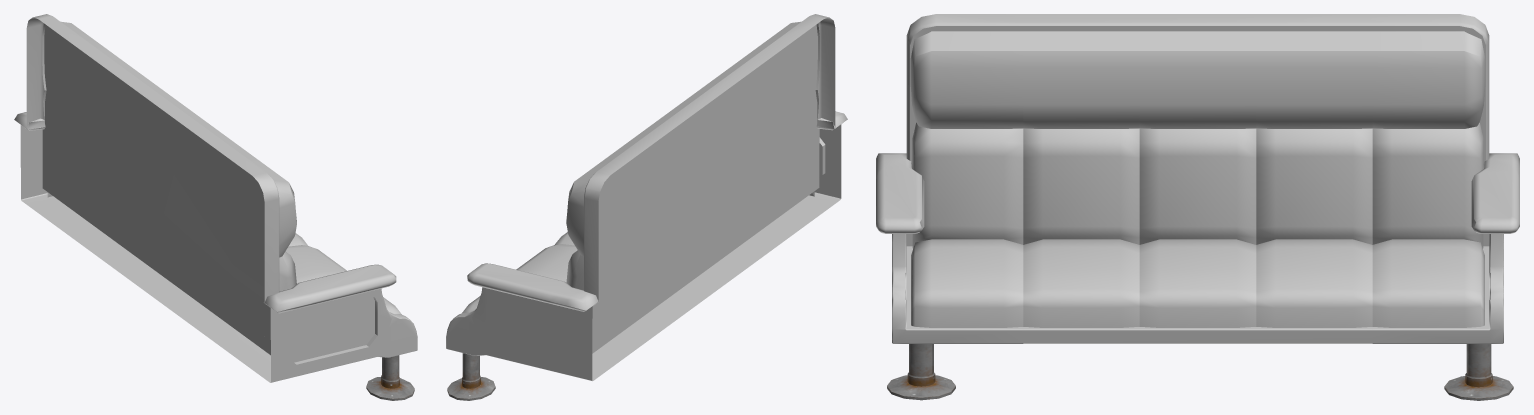
File: long_seat.fbx
3 views of the same model, side by side, from view 1: azimuth 30°, elevation 25°; view 2: azimuth 150°, elevation 25°; view 3: azimuth 270°, elevation 25° (orthographic). The views are drawn at different scales.
Visible parts, largest first — view 1: long_seat; view 2: long_seat; view 3: long_seat.
Boxes of the visible parts, box(x1,y1,x2,y2) form: long_seat: box(14, 14, 417, 400); long_seat: box(446, 14, 847, 400); long_seat: box(876, 14, 1519, 400).
Bounding box in the file's own units: 92.13 × 140 × 276.
